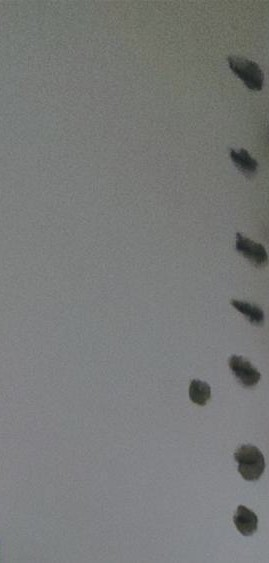Exposed reinforcement: (231, 364, 252, 376), (236, 515, 254, 526), (238, 457, 259, 466)
Spalling: (225, 55, 265, 92), (233, 441, 266, 483), (227, 353, 263, 388), (235, 232, 269, 264), (229, 298, 265, 325), (233, 504, 259, 538), (229, 147, 259, 175), (189, 378, 212, 407)
